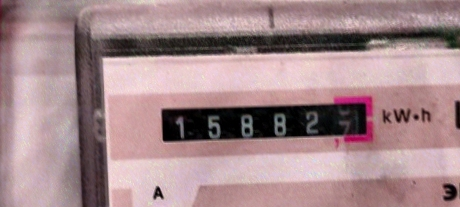1: (173, 111, 187, 140)
2: (304, 108, 320, 136)
5: (205, 112, 223, 139)
7: (336, 117, 352, 134)
8: (238, 111, 254, 139), (272, 109, 287, 138)
screen: (147, 87, 383, 154)
